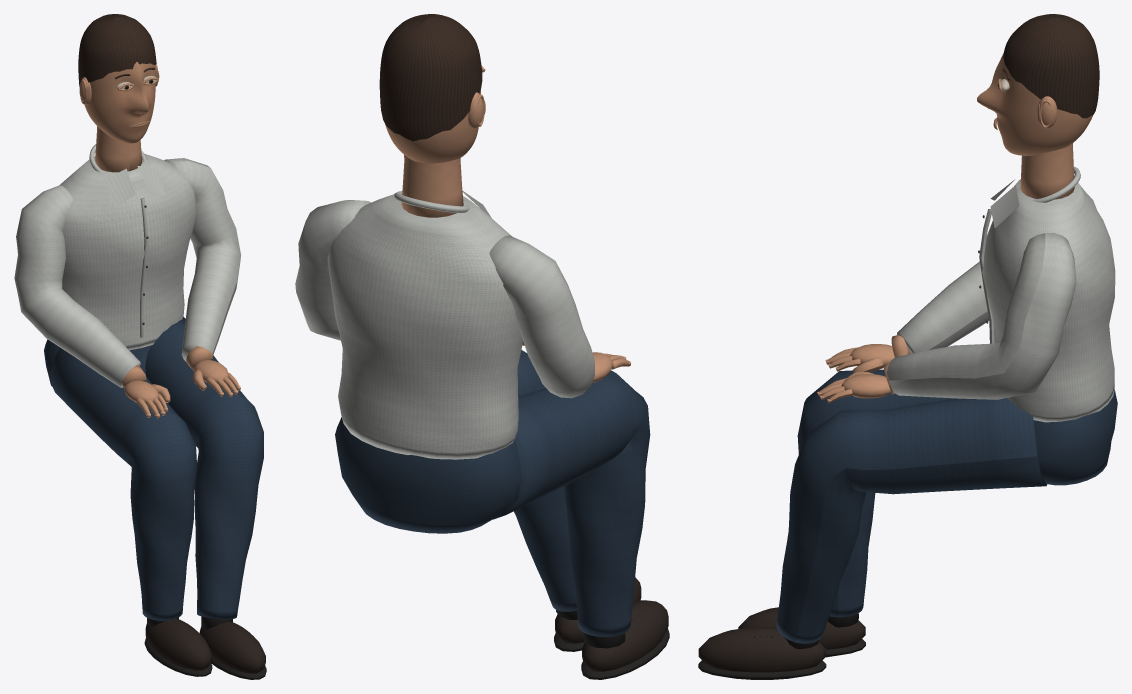
File: 07_Luca_LOD1.glb
The picture shows the model from 3 angles, left to right: view 1: azimuth 30°, elevation 25°; view 2: azimuth 150°, elevation 25°; view 3: azimuth 270°, elevation 25°; orthographic projection. The views are drawn at different scales.
Visible parts, largest first — view 1: top, trousers, skin, shoes, hair, face, sole; view 2: top, trousers, hair, skin, shoes, face, sole; view 3: trousers, top, hair, skin, shoes, face, sole.
Boxes of the visible parts, left/top/right/bottom form: top: left=14, top=144, right=241, bottom=387; trousers: left=44, top=317, right=263, bottom=620; skin: left=79, top=64, right=240, bottom=418; shoes: left=145, top=619, right=265, bottom=673; hair: left=78, top=14, right=156, bottom=86; face: left=84, top=62, right=155, bottom=143; sole: left=144, top=616, right=266, bottom=679; top: left=295, top=190, right=594, bottom=459; trousers: left=335, top=350, right=650, bottom=636; hair: left=379, top=14, right=482, bottom=141; skin: left=401, top=66, right=630, bottom=382; shoes: left=555, top=577, right=668, bottom=671; face: left=385, top=89, right=480, bottom=163; sole: left=554, top=610, right=669, bottom=679; trousers: left=776, top=369, right=1117, bottom=643; top: left=887, top=166, right=1115, bottom=422; hair: left=1002, top=14, right=1099, bottom=118; skin: left=818, top=78, right=1074, bottom=403; shoes: left=698, top=607, right=865, bottom=672; face: left=977, top=52, right=1092, bottom=155; sole: left=698, top=613, right=865, bottom=679.
Size of the model in its own units: 0.5598 by 1.38 by 0.7924.
13 materials, 13 textured.
